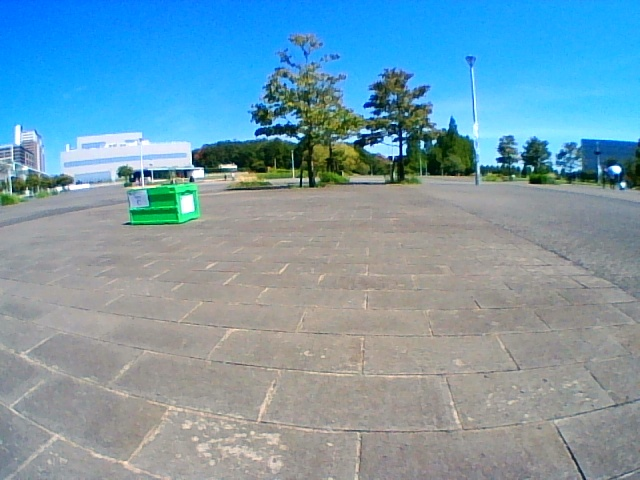green_box: (128, 183, 199, 223)
tag: (130, 191, 147, 208)
